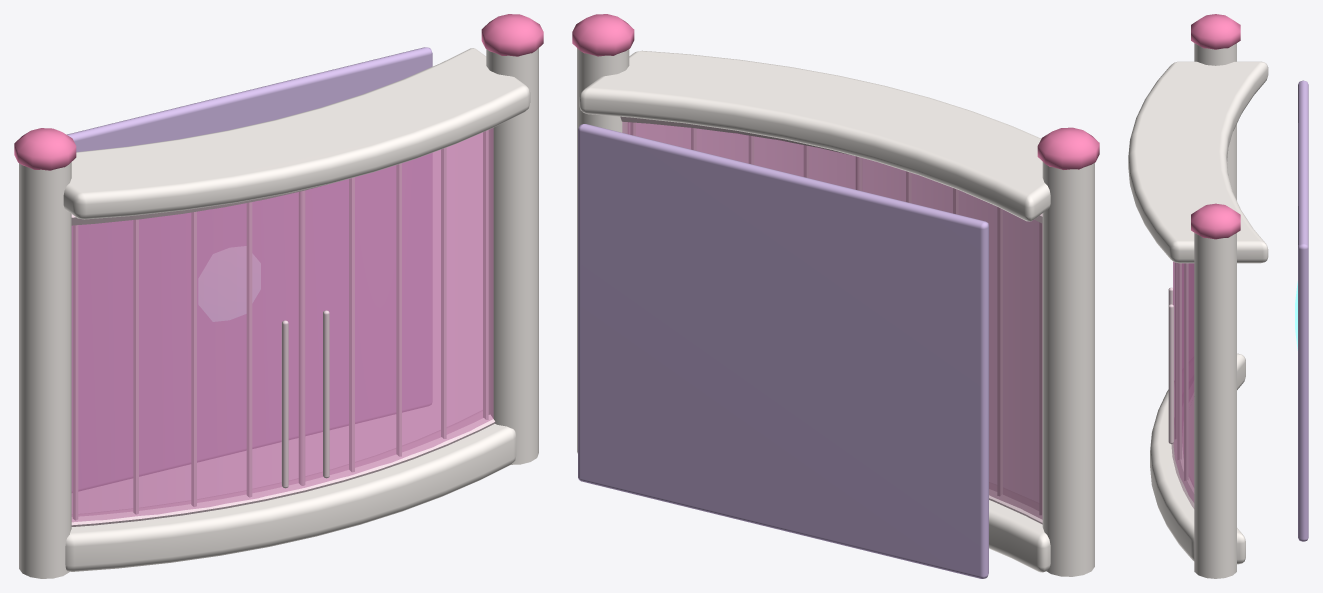
File: storefront_glass.glb
3 views of the same model, side by side, from view 1: azimuth 30°, elevation 25°; view 2: azimuth 150°, elevation 25°; view 3: azimuth 270°, elevation 25° (orthographic). The views are drawn at different scales.
Parts seen in each view (by area): view 1: storefront_glass; view 2: storefront_glass; view 3: storefront_glass.
Part boxes in pixels (x1,y1,x2,y2): storefront_glass: (14,14,543,578); storefront_glass: (572,14,1099,578); storefront_glass: (1128,14,1308,578).
Bounding box in the file's own units: 4.58 × 3.65 × 1.65.
